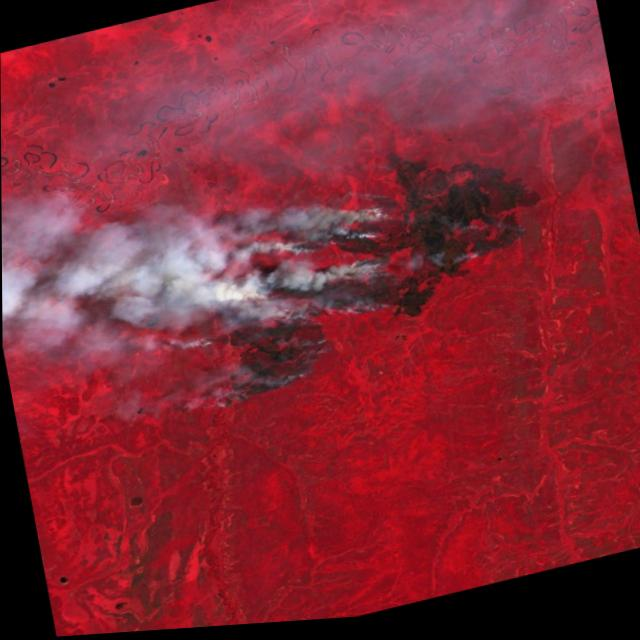fire: (176, 192, 421, 417), (457, 212, 534, 273), (375, 148, 406, 180)
